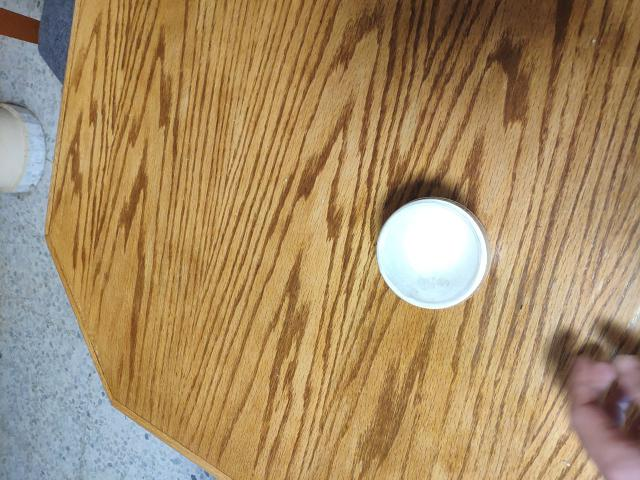cotage: (366, 197, 495, 318)
